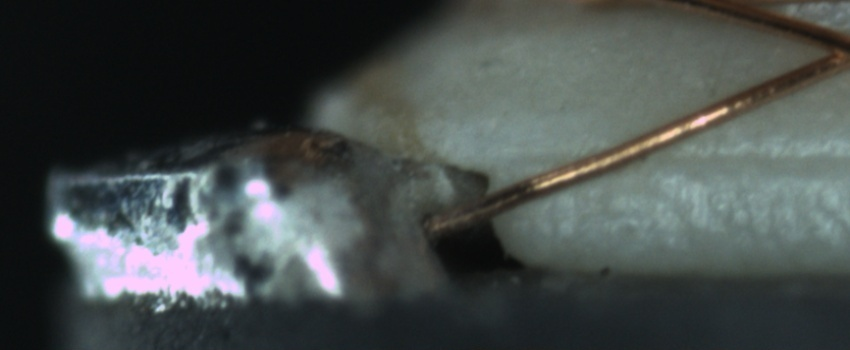CL: (799, 19, 849, 79)
DL: (524, 126, 850, 189)
